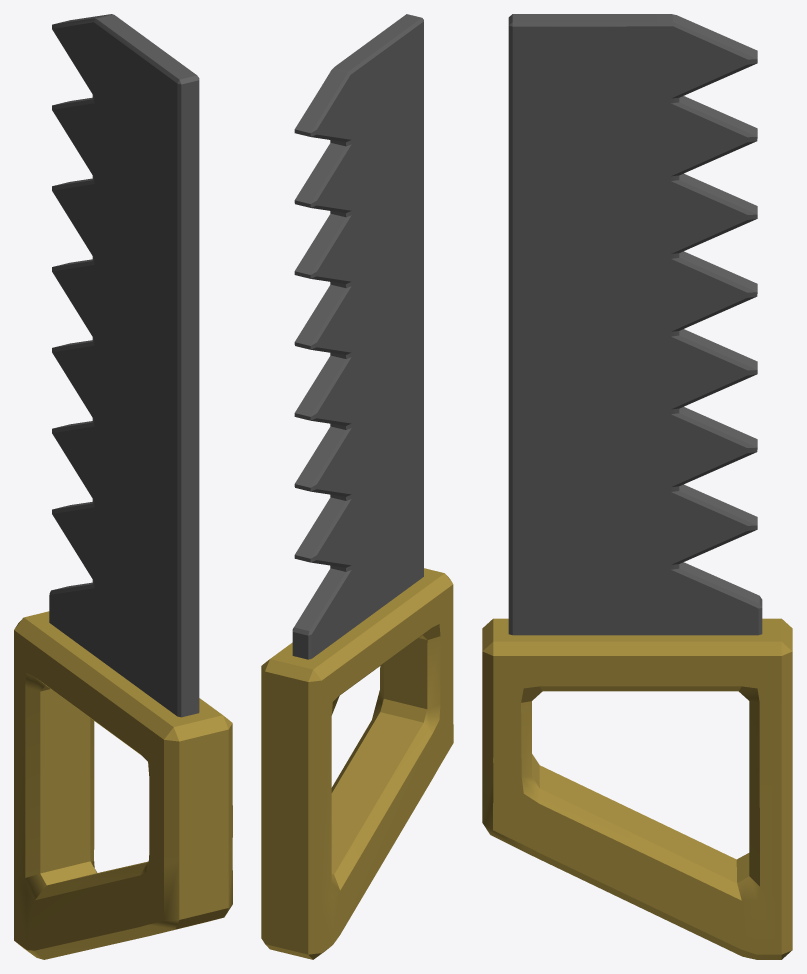
The model's file is saw.fbx.
The picture shows the model from 3 angles, left to right: view 1: azimuth 30°, elevation 25°; view 2: azimuth 150°, elevation 25°; view 3: azimuth 270°, elevation 25°; orthographic projection. The views are drawn at different scales.
Parts seen in each view (by area): view 1: saw_geo; view 2: saw_geo; view 3: saw_geo.
Boxes of the visible parts, x1,y1,x2,y2 form: saw_geo: (14, 14, 232, 959); saw_geo: (261, 14, 453, 959); saw_geo: (482, 14, 792, 959).
Size of the model in its own units: 3.13 by 41.98 by 12.68.
